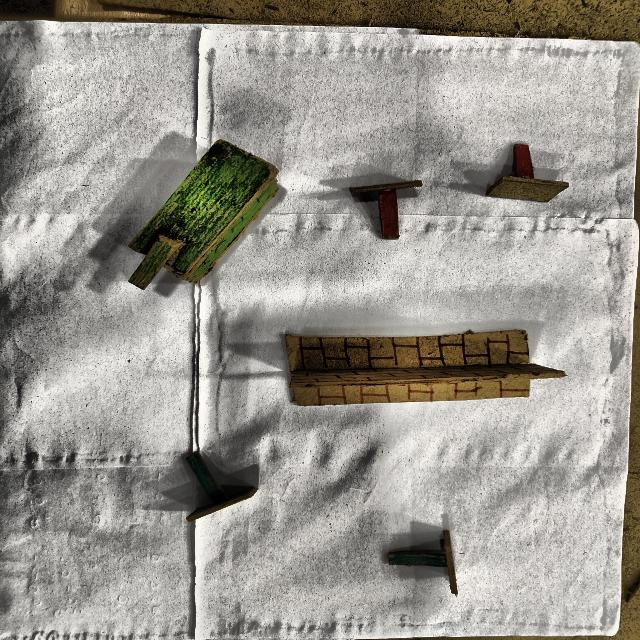Dead soldier -enemy-: (483, 142, 570, 206), (348, 178, 424, 242)
Dead soldier -frd-: (174, 451, 261, 530), (383, 528, 461, 597)
Tank: (128, 141, 283, 291)
Wall: (281, 330, 566, 408)
